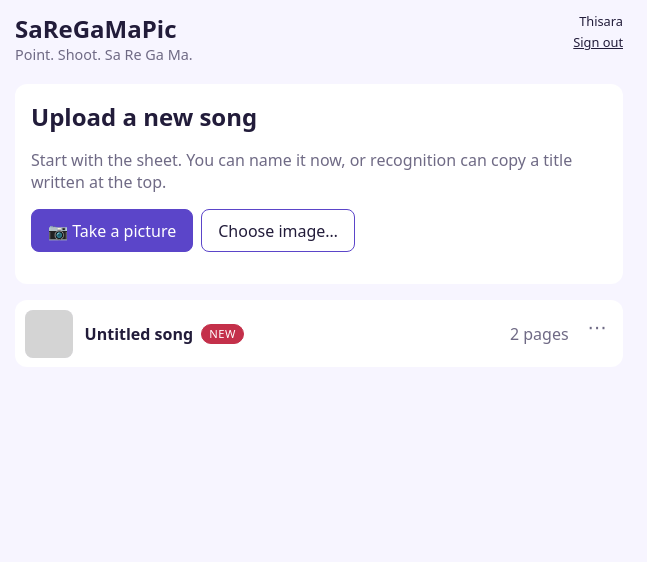
Test: App › renames a song recognition left untitled
expect the text "Untitled song" is shown: met, box [85,323,193,345]
Click the button named "Actions for Untitled song" at coordinates (597, 326), box [575,304,619,348]
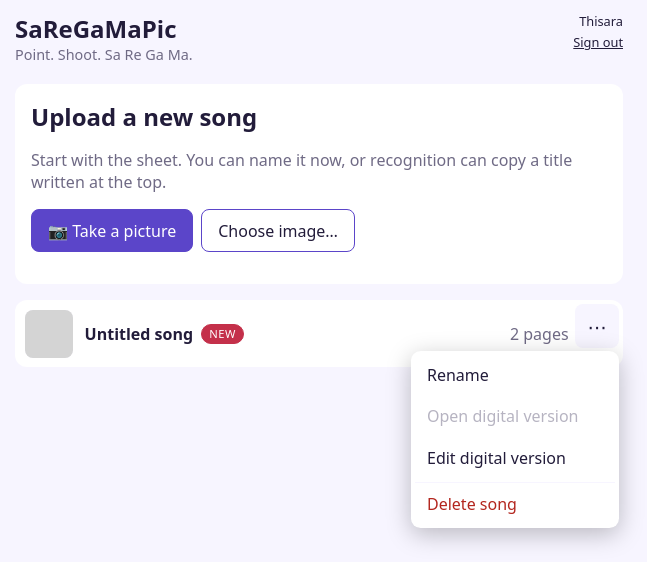
Click the menu item "Rename" at coordinates (515, 375), box [415,355,615,396]
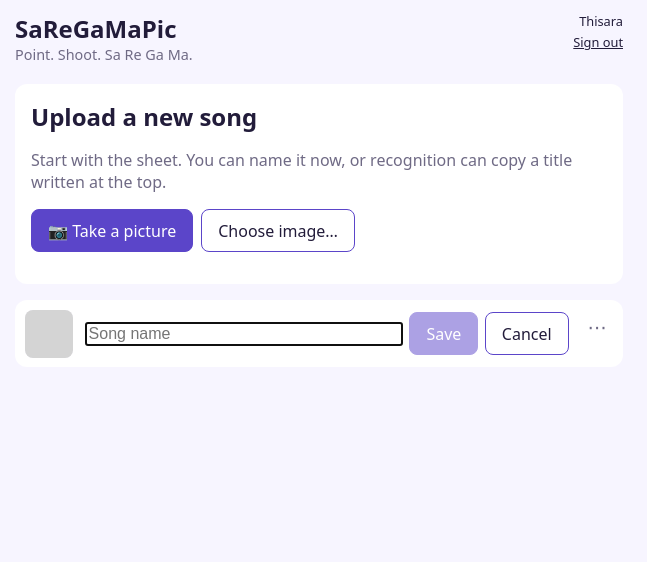
Type "  Tharuda Nidana  " into the field labelled "Song name" at coordinates (244, 334), box [85,322,403,346]
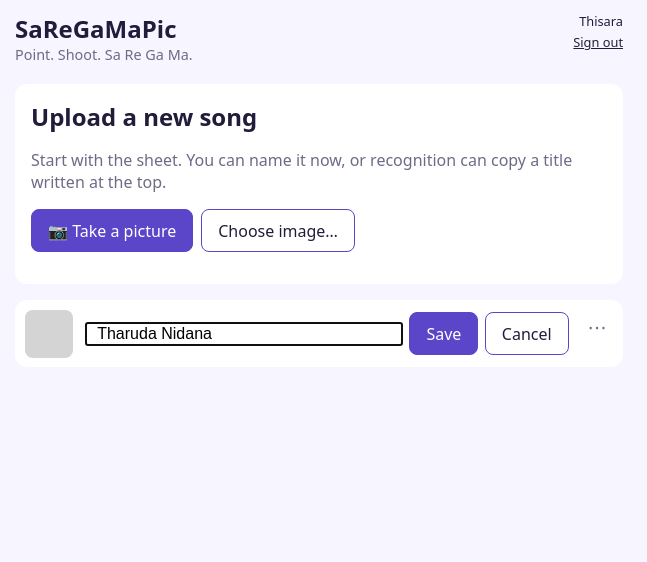
Click the button "Save" at coordinates (444, 334), box [410,312,478,355]
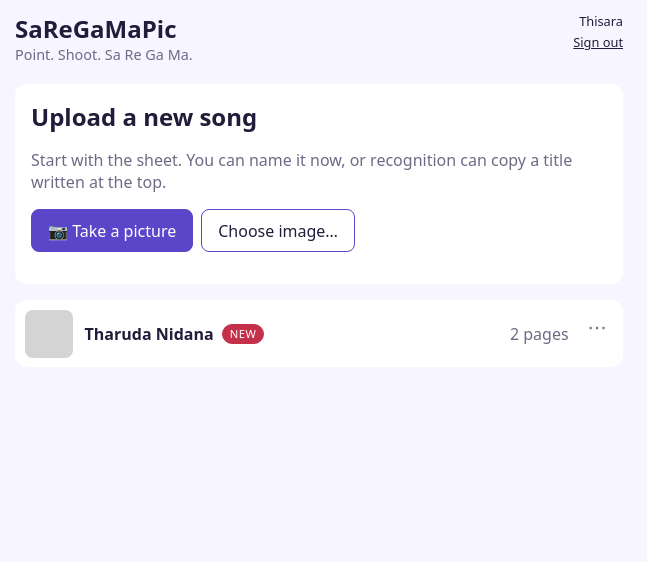
expect the text "Tharuda Nidana" is shown: met, box [85,323,214,345]
